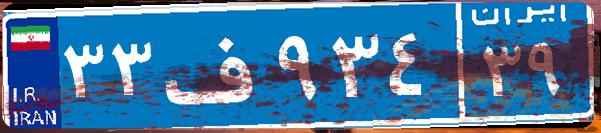3: (330, 28, 385, 110), (57, 26, 110, 107), (475, 38, 525, 113), (110, 28, 158, 105)
4: (385, 28, 445, 110)
9: (273, 28, 330, 110), (525, 38, 570, 115)
ف: (158, 15, 273, 115)
